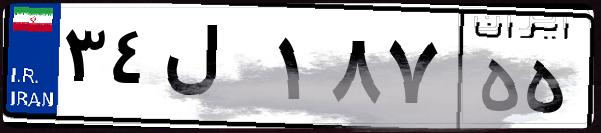1: (270, 28, 330, 110)
3: (57, 26, 110, 100)
4: (110, 28, 158, 98)
5: (475, 38, 525, 113), (525, 38, 570, 115)
7: (385, 28, 445, 110)
8: (330, 28, 385, 110)
ل: (158, 20, 270, 120)
